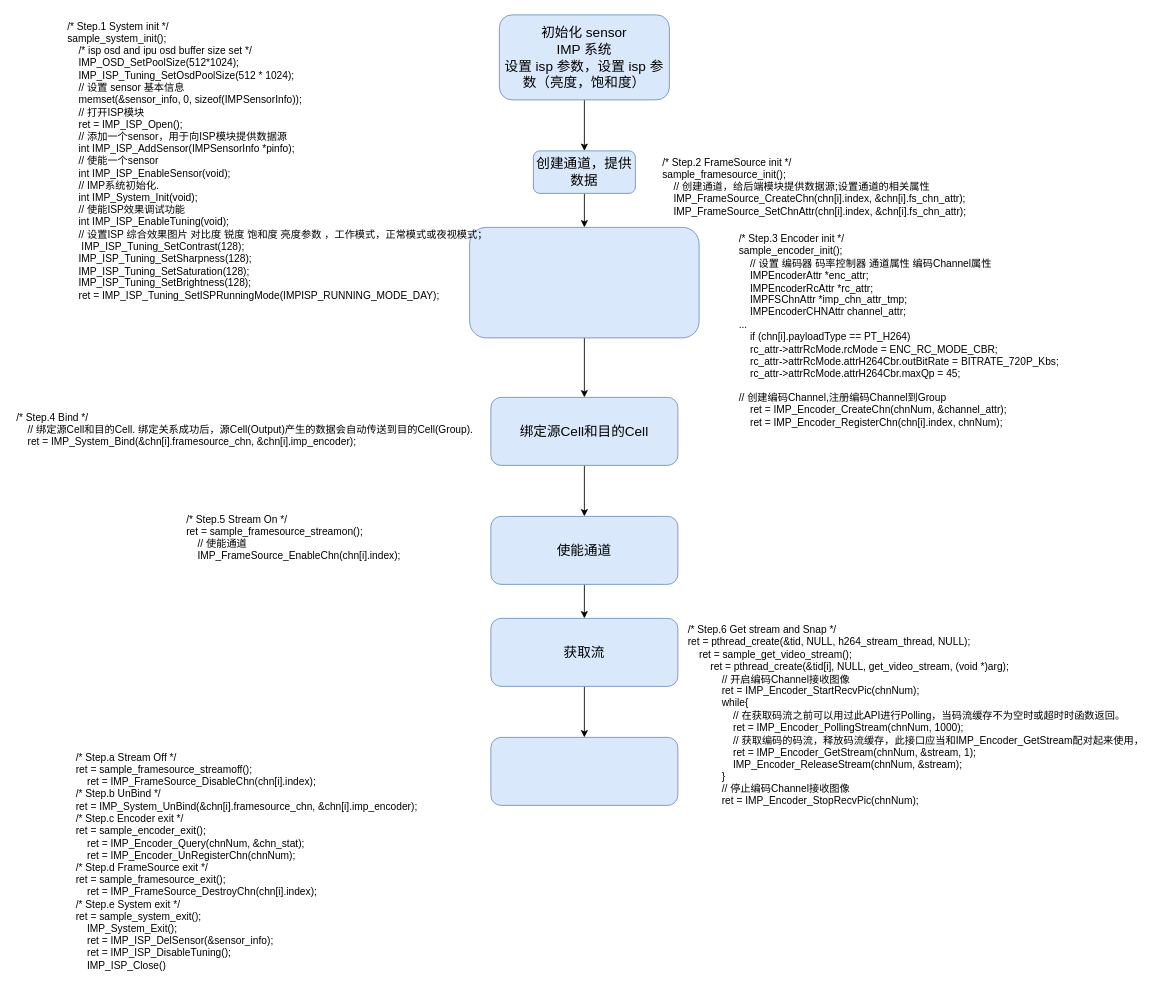
Some shapes in this 1176 by 999 pixel diagram are drawn without their labels. Here are the shapes that lost their labels. From the top down, the centre of each, then its label:
At (x=584, y=282): "编码器 码率控制器 通道属性 初始化Channel属性 注册到 group".
At (x=584, y=771): "关闭".
